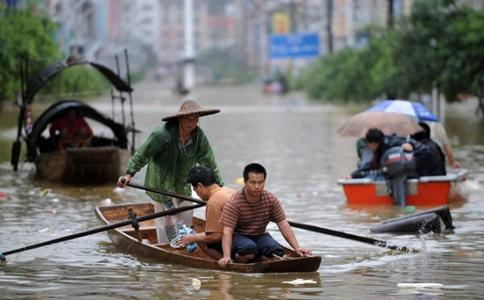person: (119, 101, 226, 245)
